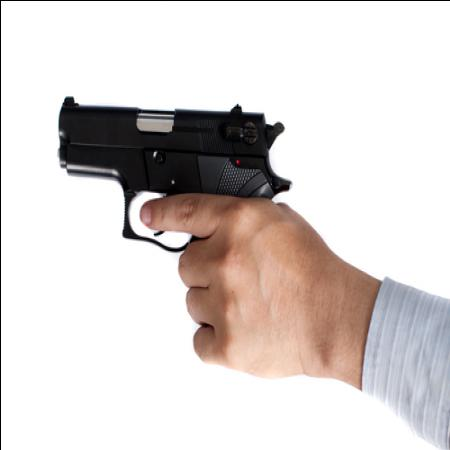Pistol: (54, 94, 292, 253)
